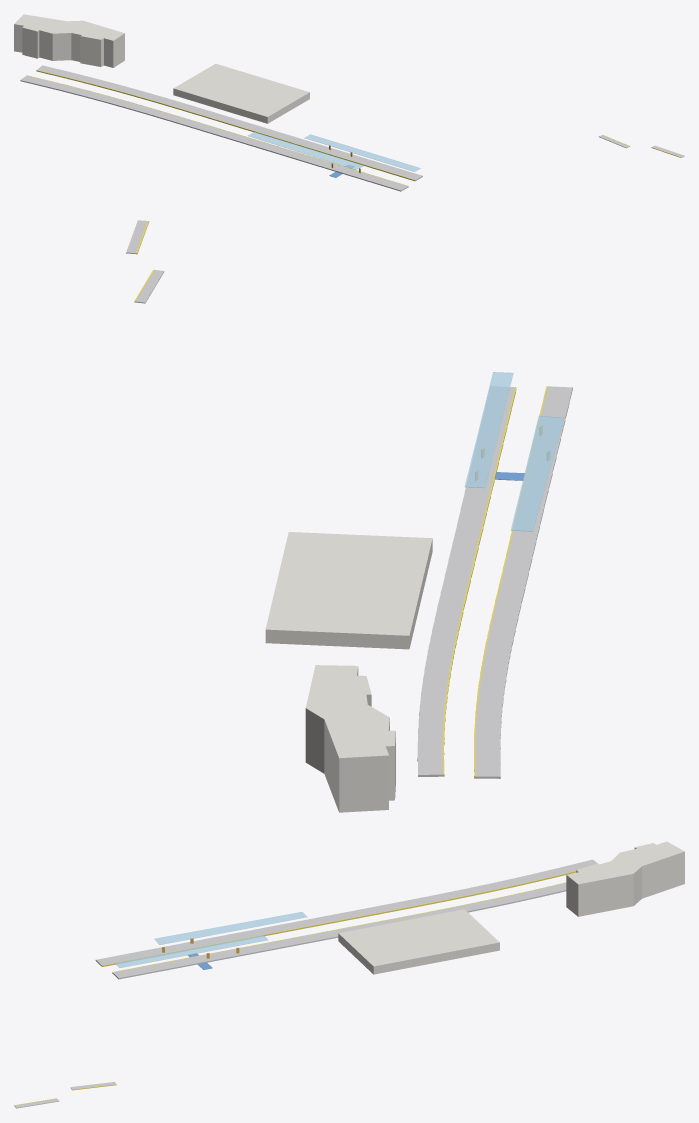
The model's file is 8507093-kehrsatz-nord.glb.
3 views of the same model, one above another, from view 1: azimuth 30°, elevation 25°; view 2: azimuth 150°, elevation 25°; view 3: azimuth 270°, elevation 25° (orthographic). The views are drawn at different scales.
Parts seen in each view (by area): view 1: building_part@x, platform_body@0, roof@0, boarding_edge@0; view 2: building_part@x, platform_body@0, roof@0, boarding_edge@0; view 3: building_part@x, platform_body@0, roof@0, boarding_edge@0.
Boxes of the visible parts, x1,y1,x2,y2 form: building_part@x: (14, 14, 309, 123); platform_body@0: (20, 65, 684, 191); roof@0: (248, 132, 420, 171); boarding_edge@0: (27, 70, 681, 186); building_part@x: (265, 532, 432, 812); platform_body@0: (126, 220, 572, 778); roof@0: (464, 372, 564, 531); boarding_edge@0: (134, 221, 547, 778); building_part@x: (338, 841, 684, 974); platform_body@0: (14, 859, 597, 1108); roof@0: (114, 912, 307, 967); boarding_edge@0: (14, 871, 576, 1105).
Size of the model in its own units: 227 by 18.62 by 262.
